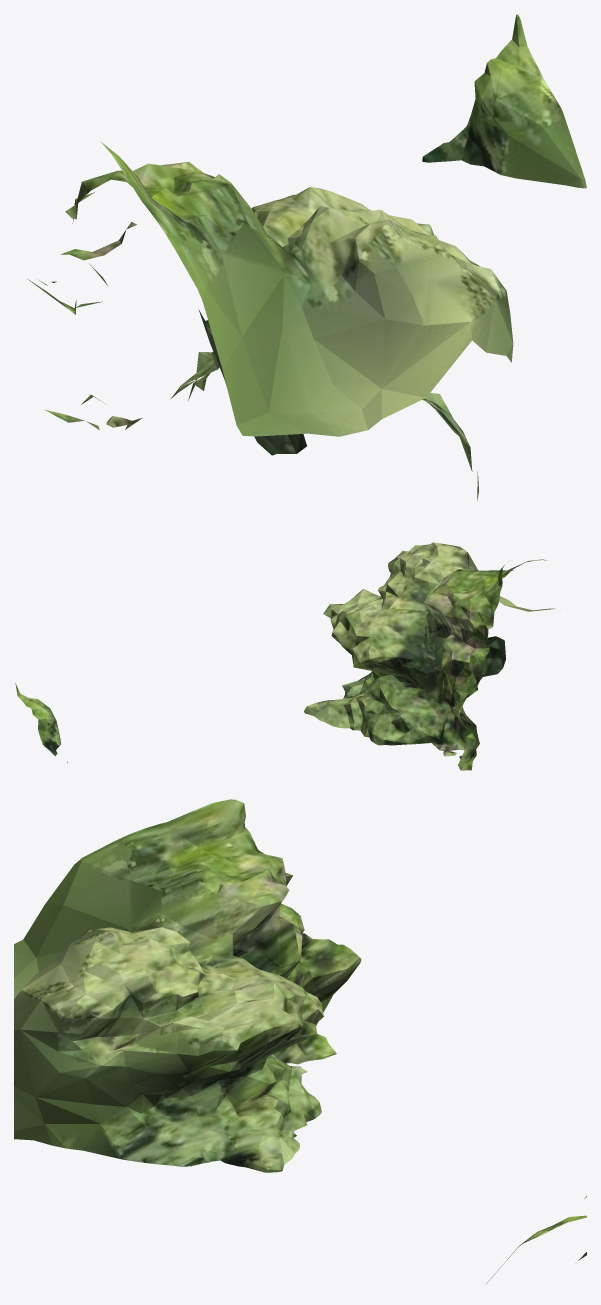
3 views of the same model, one above another, from view 1: azimuth 30°, elevation 25°; view 2: azimuth 150°, elevation 25°; view 3: azimuth 270°, elevation 25° (orthographic). The views are drawn at different scales.
Bounding box in the file's own units: 26.11 × 12.54 × 26.11.
Materials: 2 (2 with a texture image).
